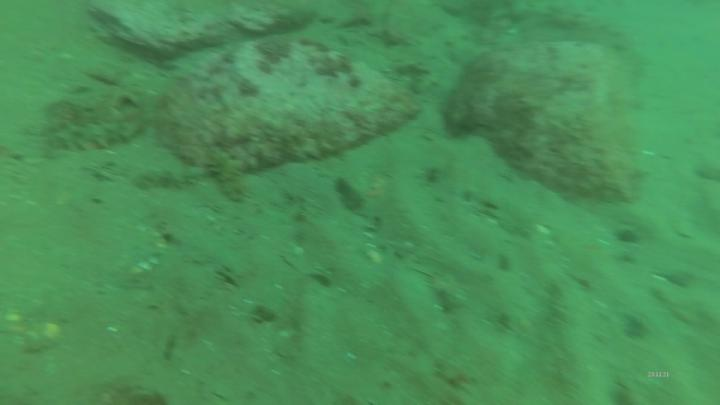holothurian: (51, 118, 144, 155), (205, 145, 252, 206)
